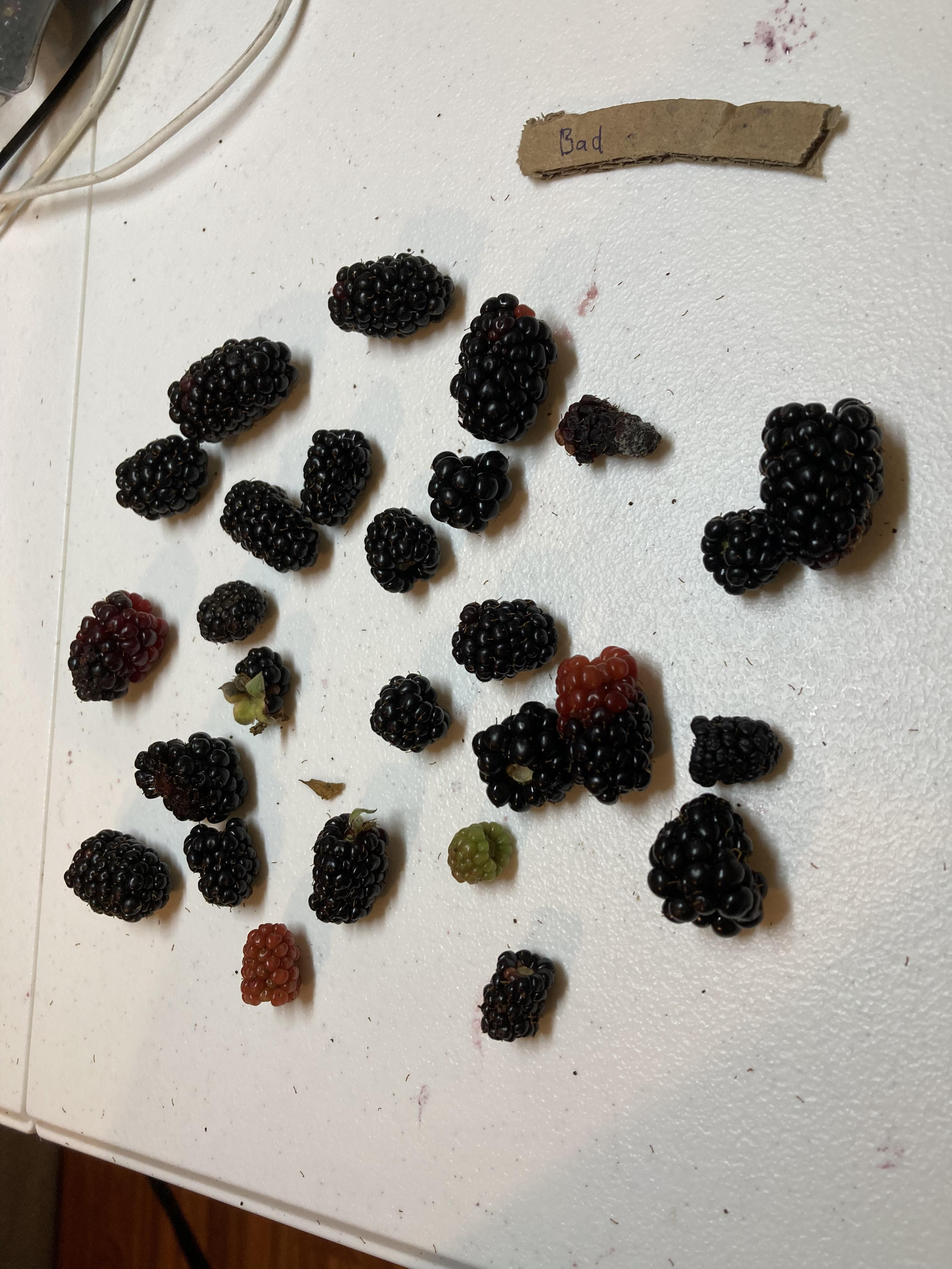berry: (763, 402, 882, 563), (653, 795, 763, 932), (559, 650, 653, 798), (458, 299, 552, 438), (173, 339, 294, 434), (70, 595, 174, 697), (331, 253, 453, 333), (477, 702, 568, 807), (135, 735, 241, 822), (64, 829, 166, 916), (221, 481, 316, 569), (455, 599, 554, 676), (314, 815, 388, 917), (701, 509, 788, 594), (117, 434, 208, 513), (305, 428, 375, 521), (559, 397, 662, 460), (220, 647, 291, 735), (485, 952, 559, 1035), (364, 507, 439, 586), (691, 716, 784, 779), (431, 452, 508, 527), (187, 821, 259, 900), (371, 674, 444, 747), (241, 923, 300, 1007), (197, 581, 275, 640), (447, 822, 514, 883)
